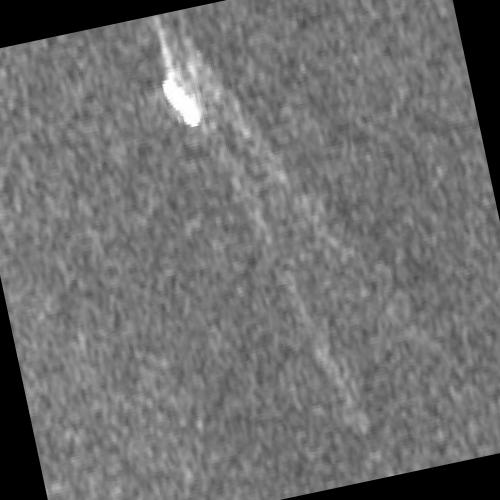ship: (161, 77, 202, 129)
